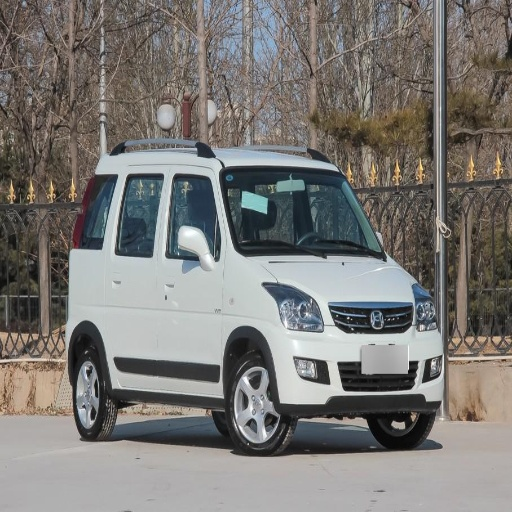front_bumper: (271, 298, 445, 421)
front_right_door: (149, 172, 220, 388)
front_right_light: (264, 285, 325, 331)
trunk: (68, 252, 109, 330)
